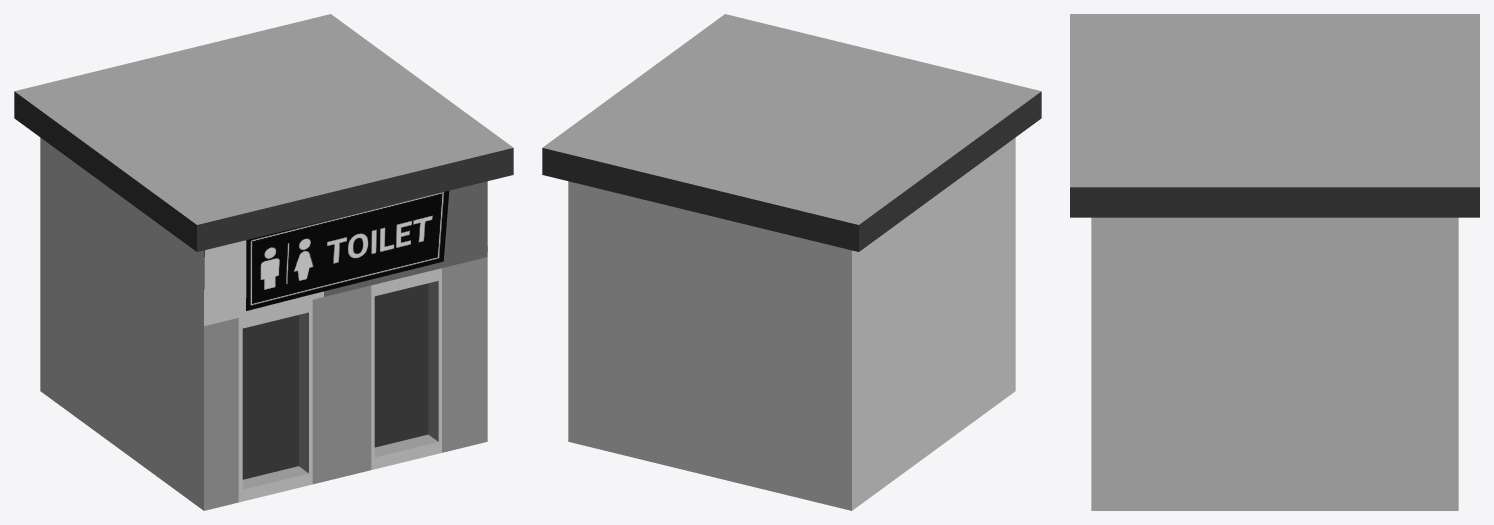
The model's file is toliet.fbx.
3 views of the same model, side by side, from view 1: azimuth 30°, elevation 25°; view 2: azimuth 150°, elevation 25°; view 3: azimuth 270°, elevation 25° (orthographic). The views are drawn at different scales.
Visible parts, largest first — view 1: toliet1; view 2: toliet1; view 3: toliet1.
Boxes of the visible parts, bbox=[...] form: toliet1: bbox=[14, 14, 513, 510]; toliet1: bbox=[542, 14, 1041, 510]; toliet1: bbox=[1070, 14, 1479, 510].
Size of the model in its own units: 112 by 100 by 112.
Materials: 4 (1 with a texture image).
